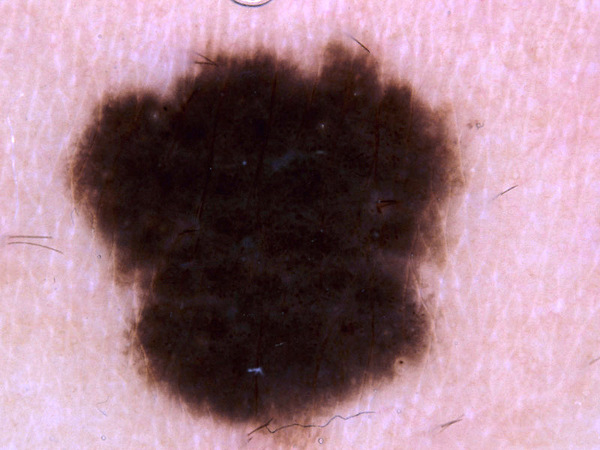Detected Lesion: (56, 37, 474, 450)
